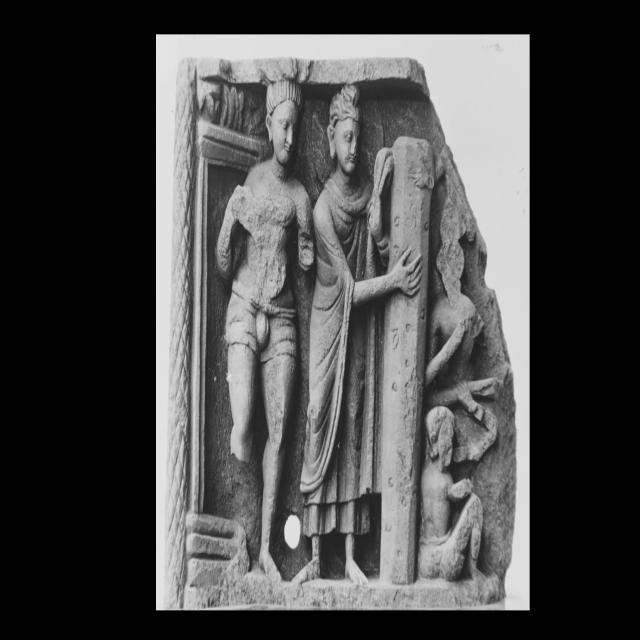buddha-standing: (299, 84, 421, 583)
